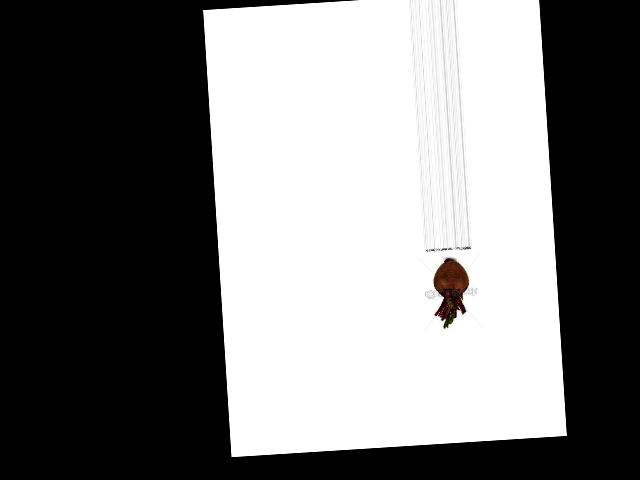beet: (431, 257, 472, 328)
